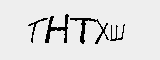Н: (45, 14, 68, 44)
Т: (69, 17, 94, 44), (27, 17, 44, 42)
Х: (96, 19, 108, 45)
Ш: (110, 23, 125, 42)
